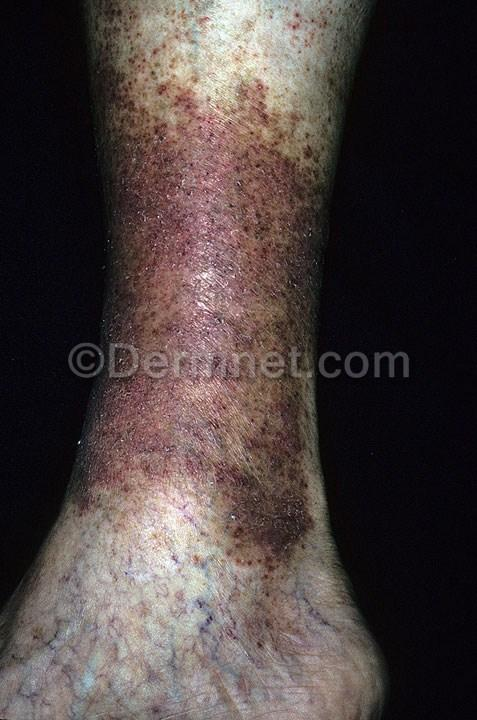Eczema: (98, 1, 322, 351), (43, 378, 324, 640)
